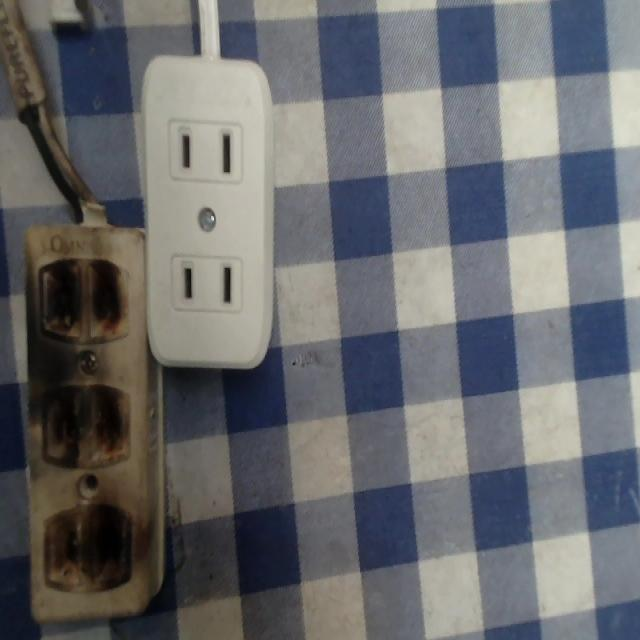-: (41, 497, 135, 596), (33, 252, 129, 348), (39, 380, 132, 479)
